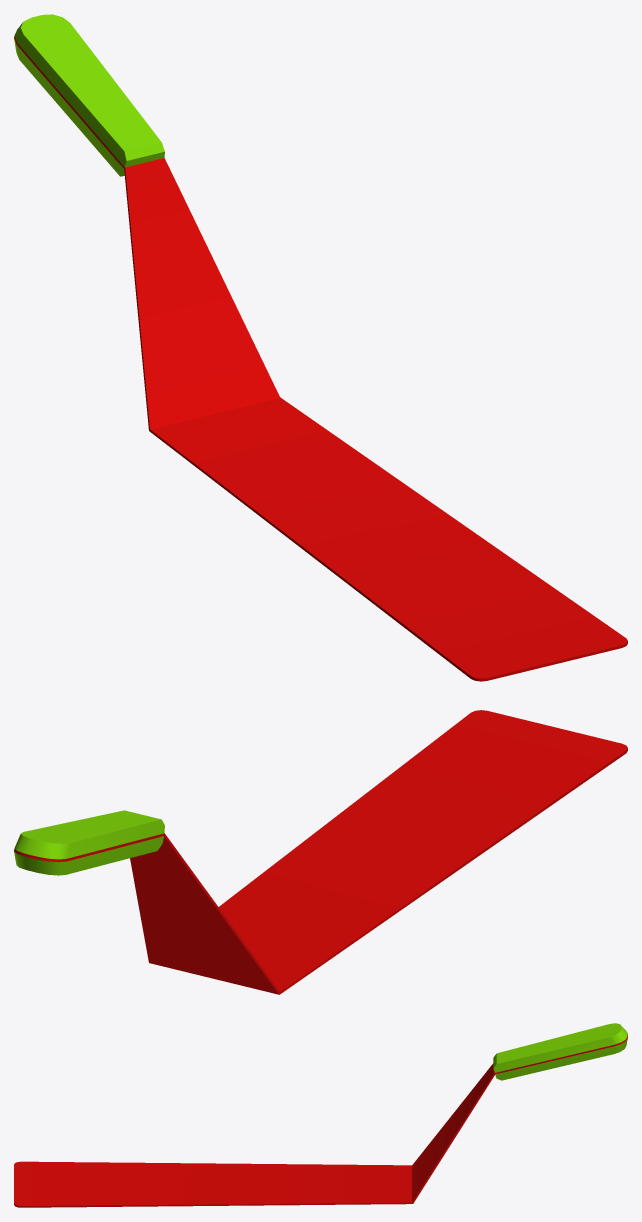
File: spatula.fbx
The picture shows the model from 3 angles, top to bottom: view 1: azimuth 30°, elevation 25°; view 2: azimuth 150°, elevation 25°; view 3: azimuth 270°, elevation 25°; orthographic projection. The views are drawn at different scales.
Visible parts, largest first — view 1: spatula; view 2: spatula; view 3: spatula.
Boxes of the visible parts, x1,y1,x2,y2 form: spatula: (14, 14, 627, 681); spatula: (14, 710, 627, 994); spatula: (14, 1023, 627, 1207).
Size of the model in its own units: 1.23 by 7.2 by 2.04.
